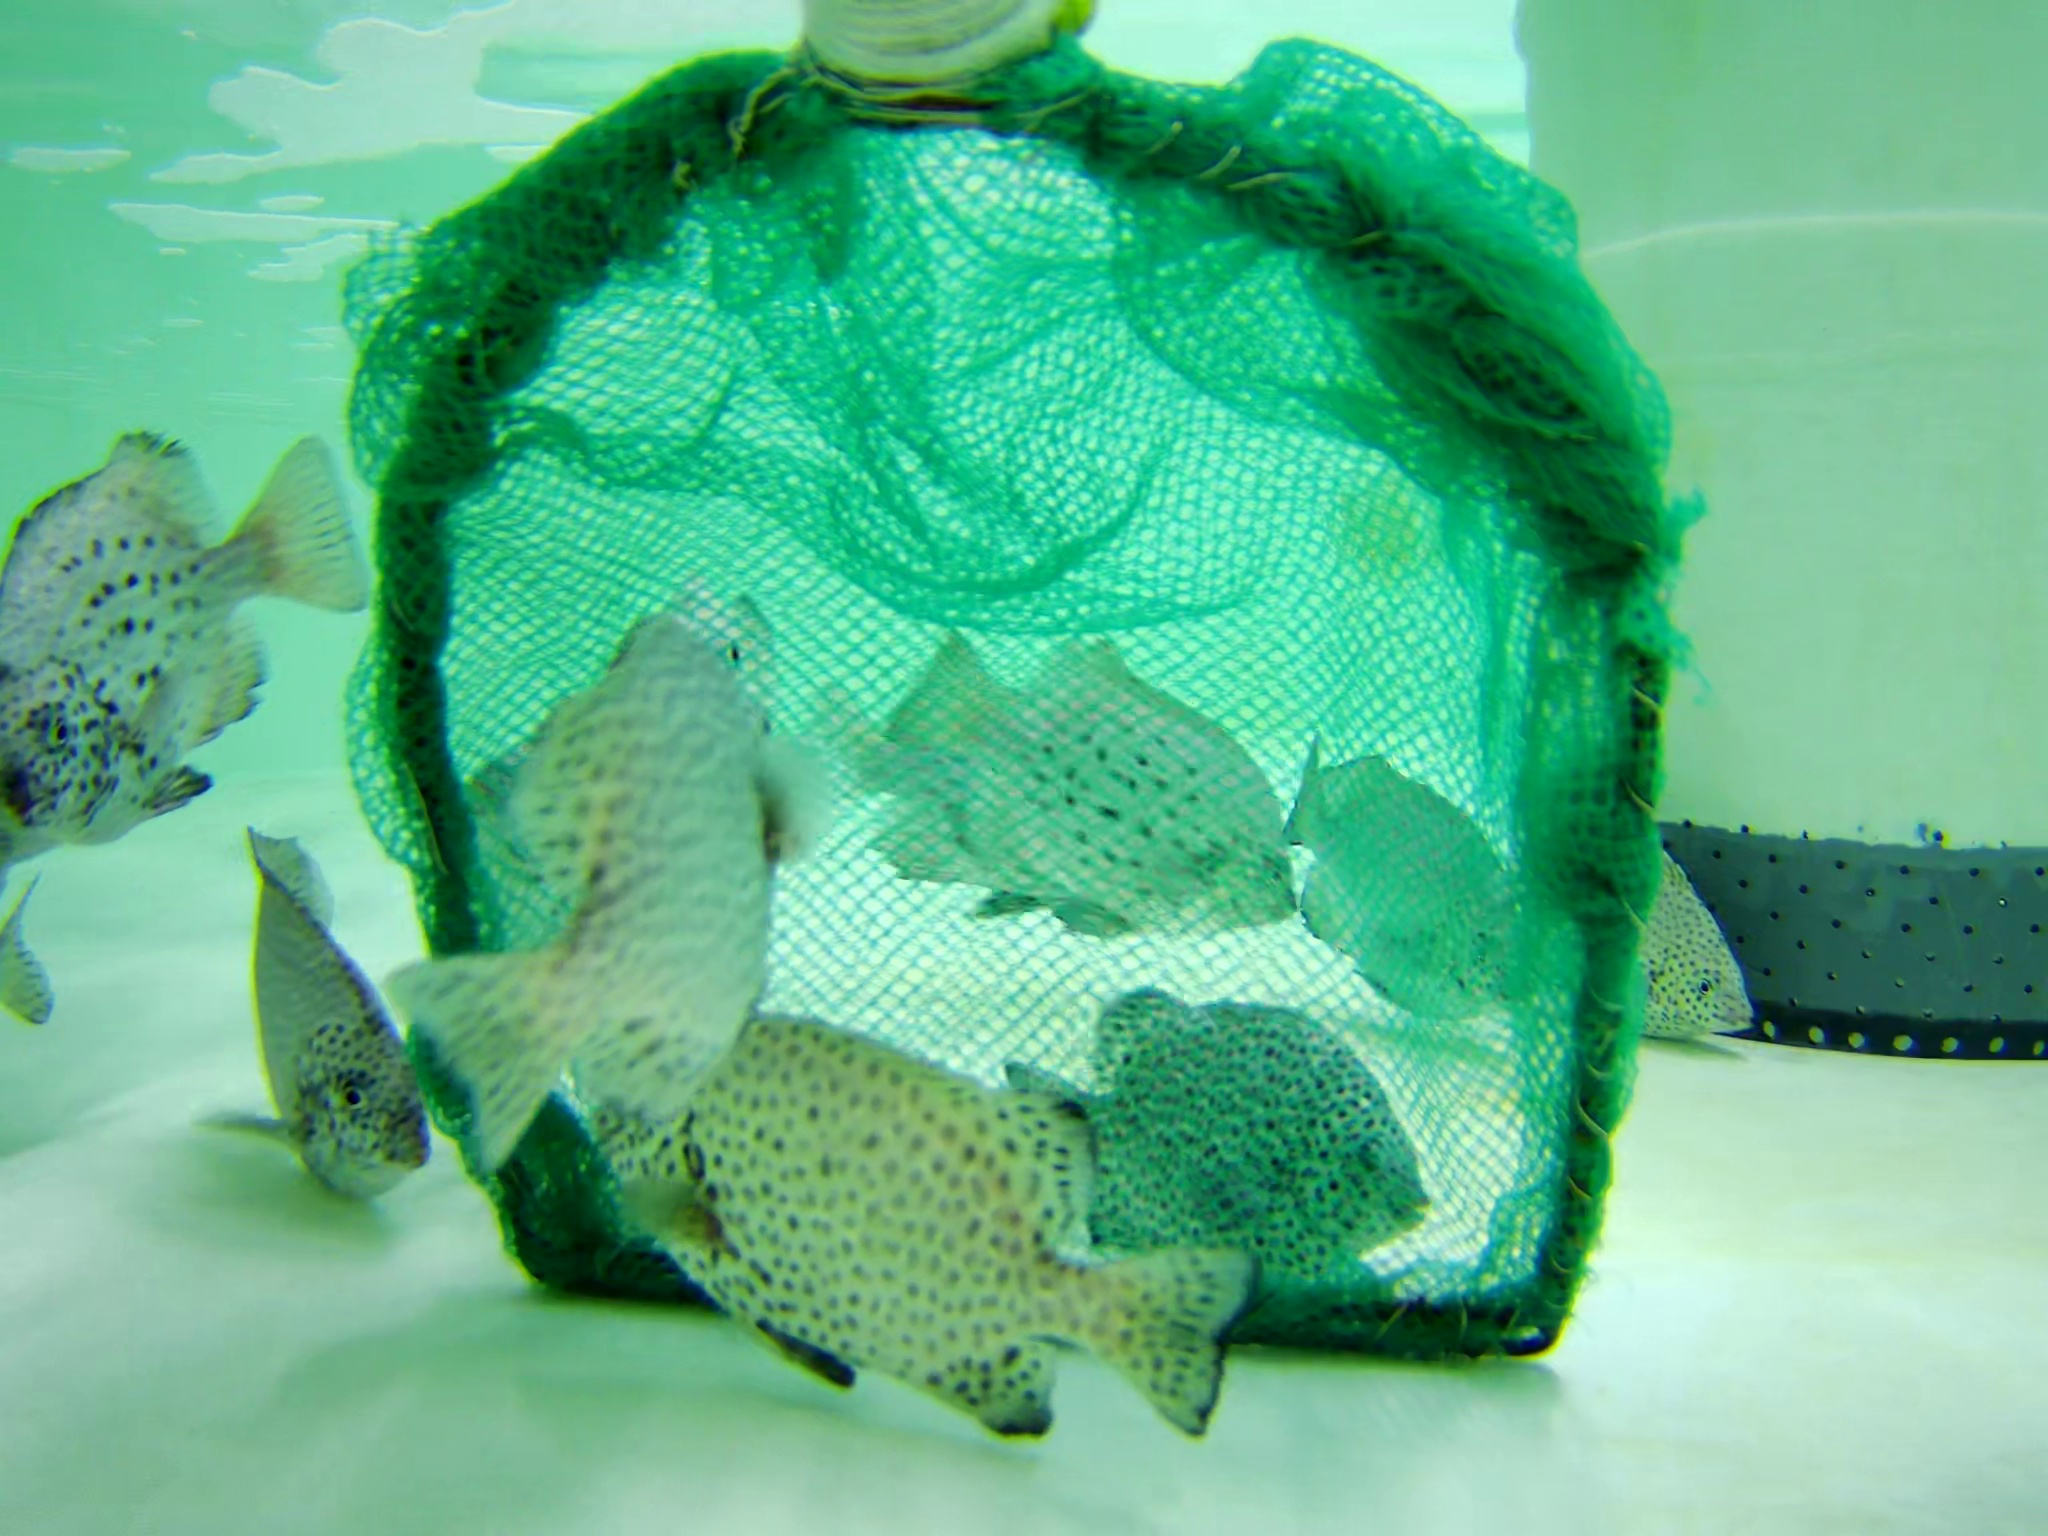fish: (616, 997, 1264, 1452), (369, 599, 782, 1149), (2, 416, 373, 834), (872, 628, 1301, 937), (1013, 991, 1443, 1292), (227, 834, 440, 1225), (1274, 724, 1534, 1018), (1635, 834, 1746, 1044), (2, 873, 69, 1039)
